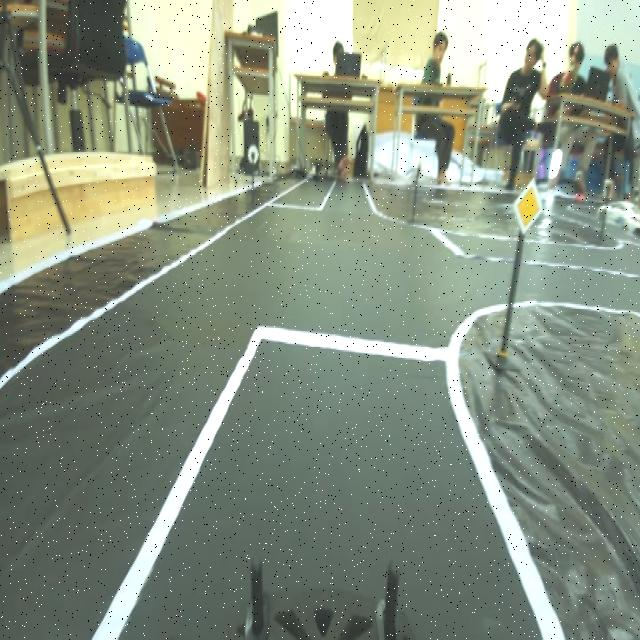priority: (508, 162, 546, 238)
